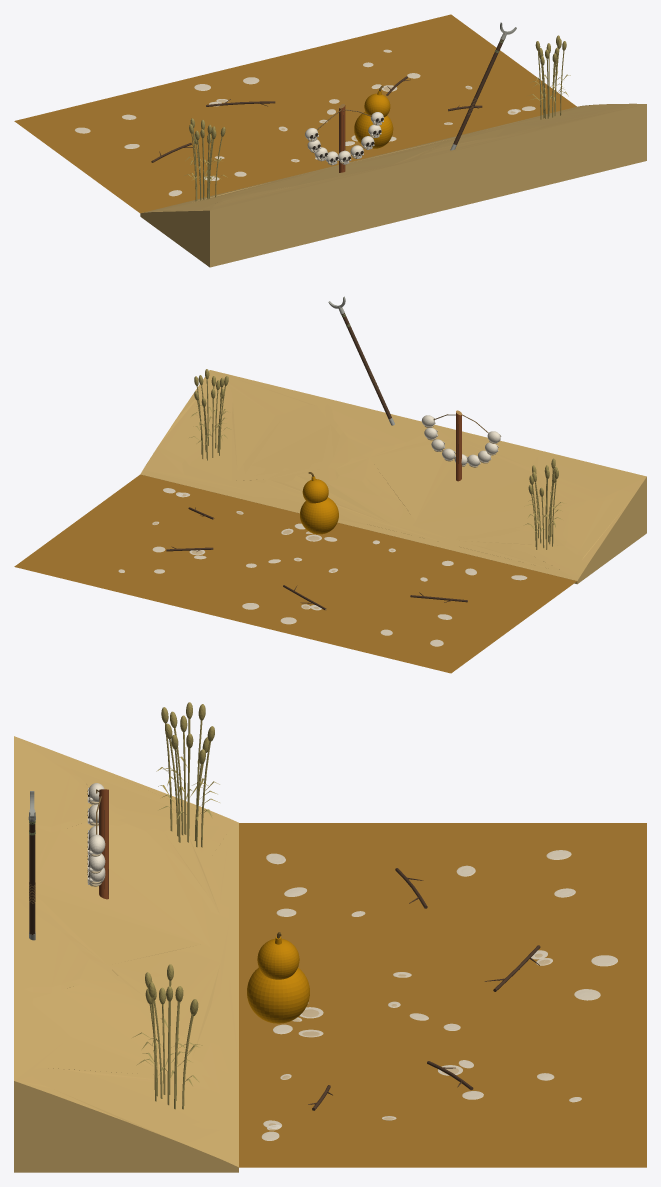
File: xy_liushahe.glb
3 renders of one model, top to bottom at view 1: azimuth 30°, elevation 25°; view 2: azimuth 150°, elevation 25°; view 3: azimuth 270°, elevation 25°, orthographic. The views are drawn at different scales.
Visible parts, largest first — view 1: xy_liushahe; view 2: xy_liushahe; view 3: xy_liushahe.
Part boxes in pixels (box(x1,y1,x2,y2)): xy_liushahe: box(14, 14, 646, 267); xy_liushahe: box(14, 296, 646, 673); xy_liushahe: box(14, 702, 646, 1172).
Bounding box in the file's own units: 21 × 7.71 × 16.29.
